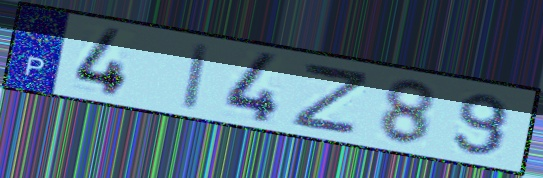4: (220, 49, 284, 126), (69, 25, 131, 99)
8: (375, 77, 439, 146)
9: (454, 92, 513, 159)
I: (178, 40, 213, 114)
Z: (286, 62, 375, 139)
